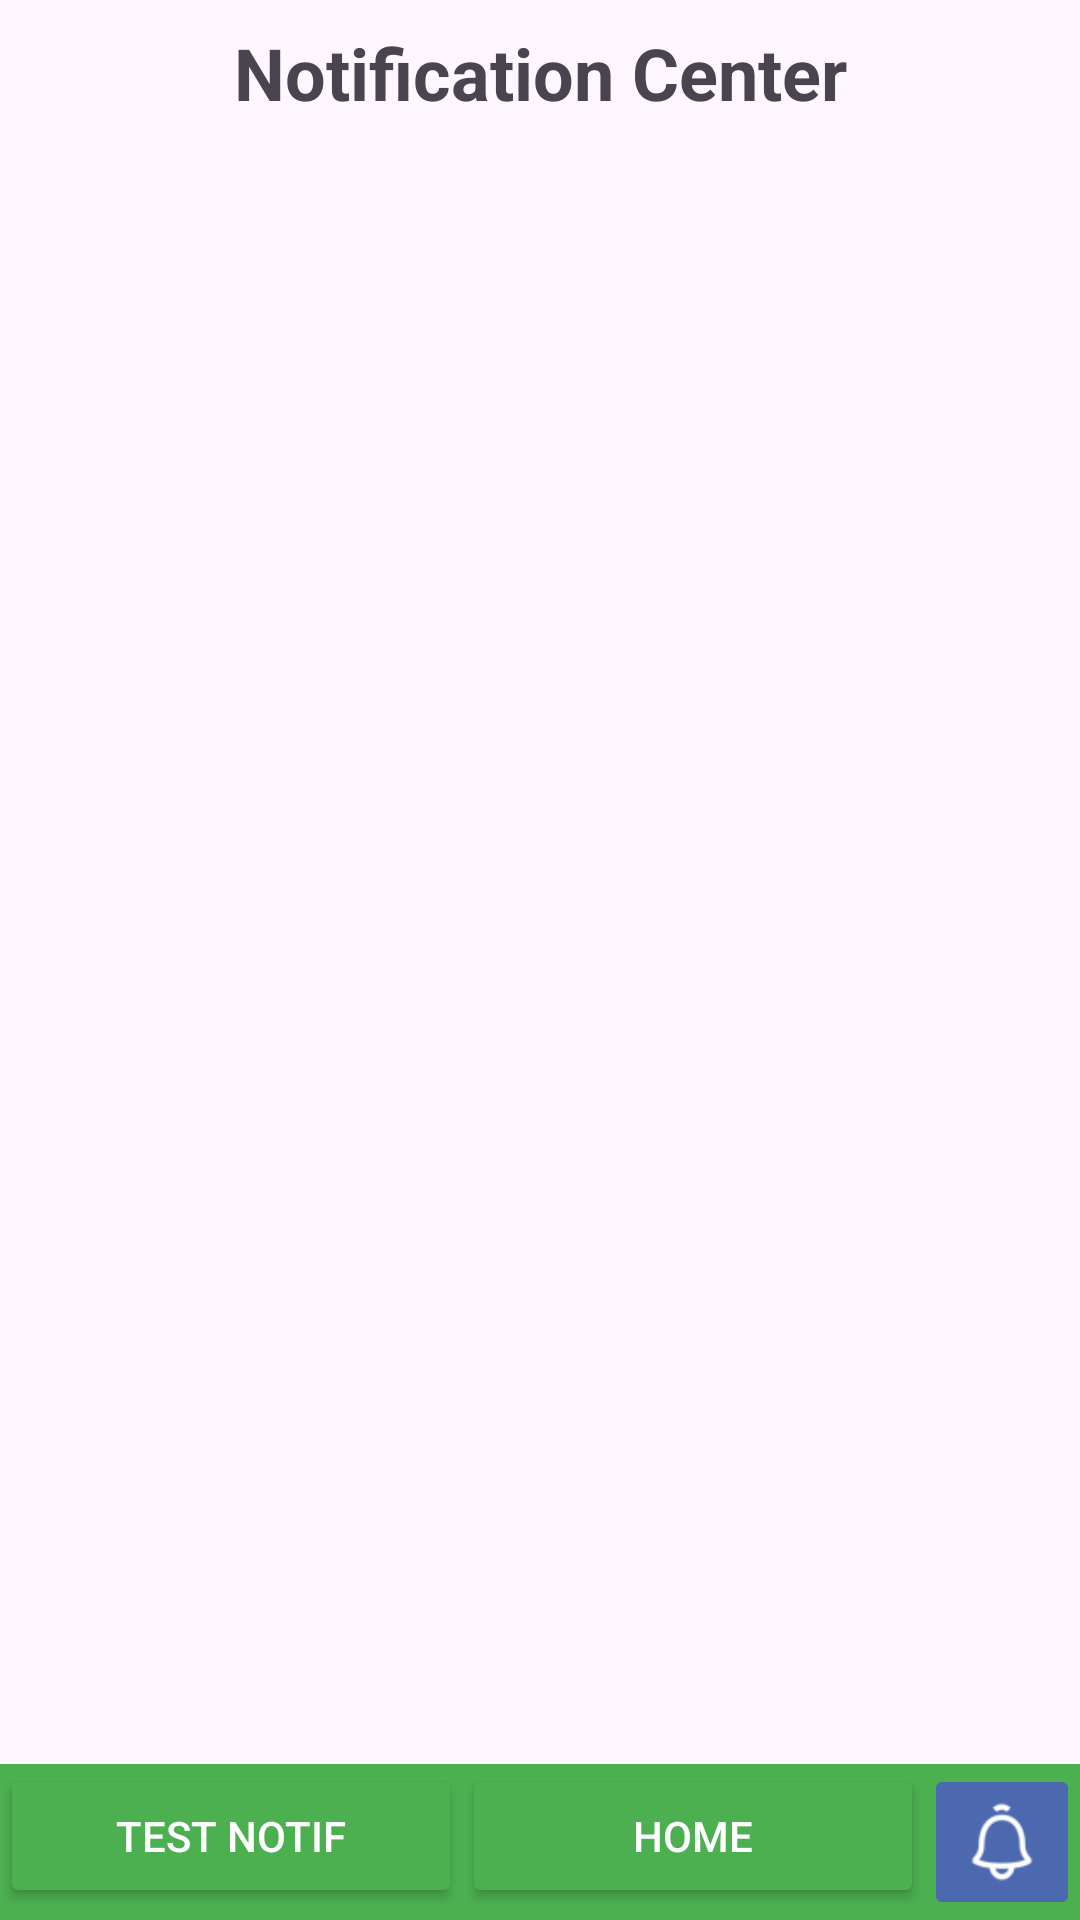

Screen size 1080 × 1920. Icon name, then its box in pixels as bbox=(x1, y1, x2, y2):
bell: bbox=(936, 1782, 1068, 1902)
